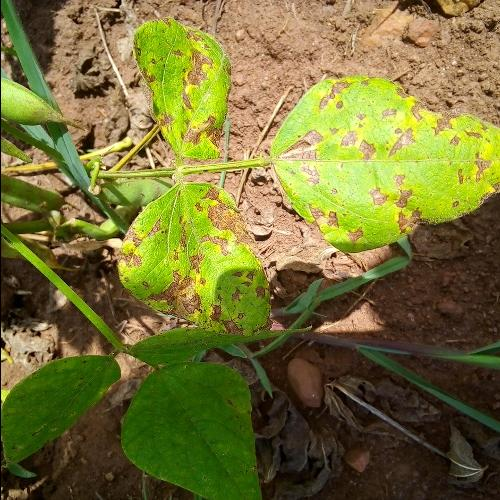hawar: (275, 57, 500, 270), (130, 195, 280, 355), (117, 0, 244, 158)
